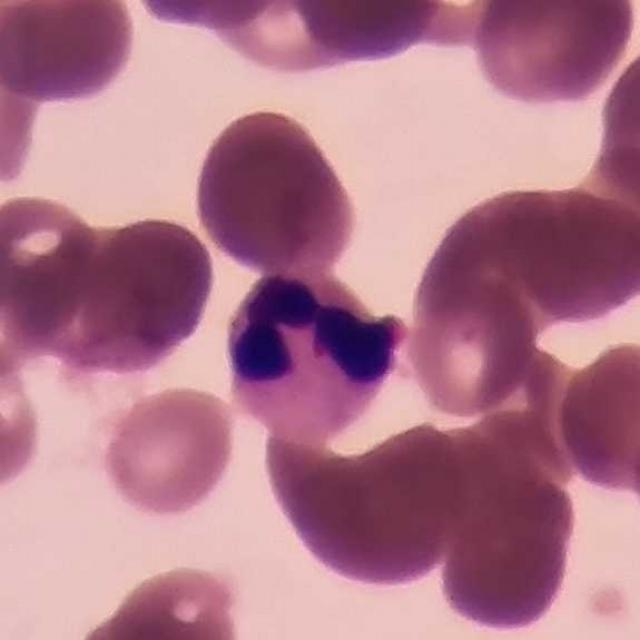Neutrophil: (216, 258, 418, 442)
Platelets: (583, 579, 633, 633)
RBC: (286, 421, 471, 592), (188, 102, 361, 275), (431, 452, 581, 637), (418, 188, 574, 344), (78, 210, 218, 368), (403, 267, 540, 420), (497, 181, 639, 325), (94, 381, 240, 521), (193, 1, 435, 84), (467, 0, 638, 111), (0, 188, 102, 335), (0, 0, 140, 107), (552, 335, 640, 501), (88, 560, 247, 640), (285, 0, 453, 65), (592, 31, 640, 224), (0, 7, 47, 198), (0, 336, 48, 501), (110, 0, 300, 32)
